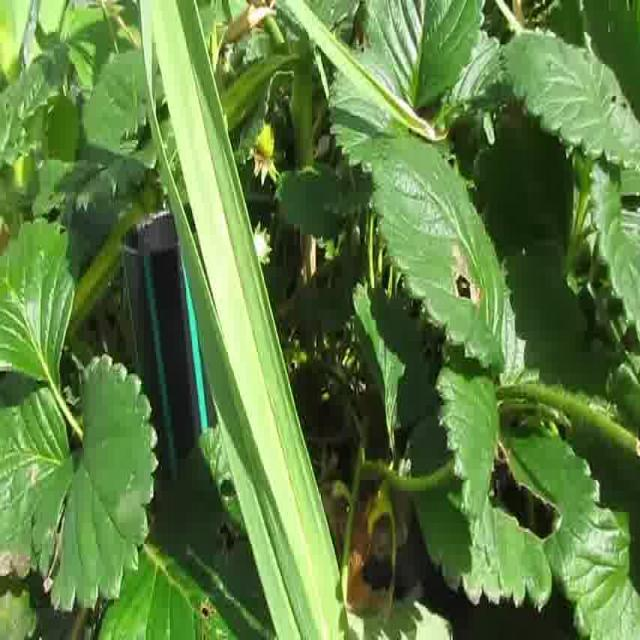Fruta sana: (256, 125, 276, 158)
